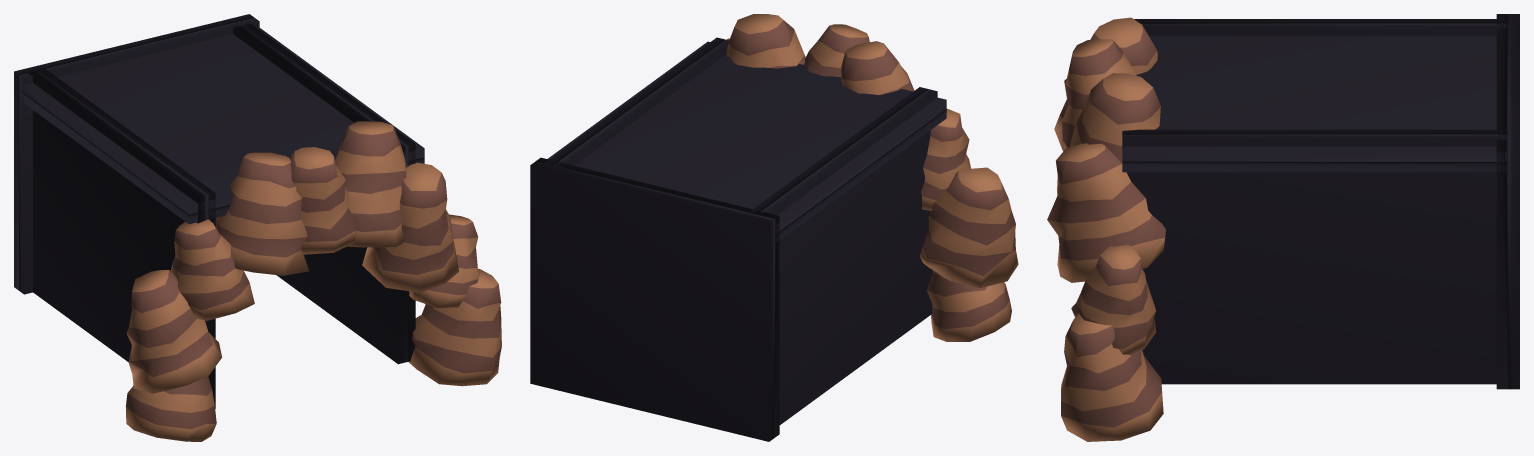
Rendered from cove_cave.glb.
3 views of the same model, side by side, from view 1: azimuth 30°, elevation 25°; view 2: azimuth 150°, elevation 25°; view 3: azimuth 270°, elevation 25° (orthographic). The views are drawn at different scales.
Parts seen in each view (by area): view 1: Cave; view 2: Cave; view 3: Cave.
Boxes of the visible parts, x1,y1,x2,y2 form: Cave: [14, 14, 501, 441]; Cave: [530, 14, 1018, 441]; Cave: [1047, 14, 1519, 441].
Size of the model in its own units: 12.4 by 8.52 by 12.25.
